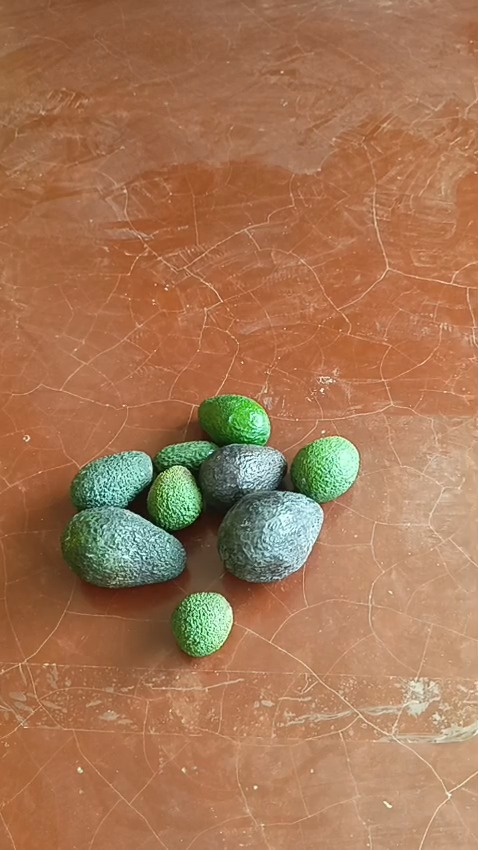Primera: (60, 506, 187, 588), (216, 489, 324, 581), (197, 441, 289, 513)
Segunda: (69, 450, 153, 512), (289, 435, 361, 503), (198, 394, 270, 446)
Tercera: (144, 463, 203, 532), (171, 590, 233, 655), (154, 439, 218, 475)
